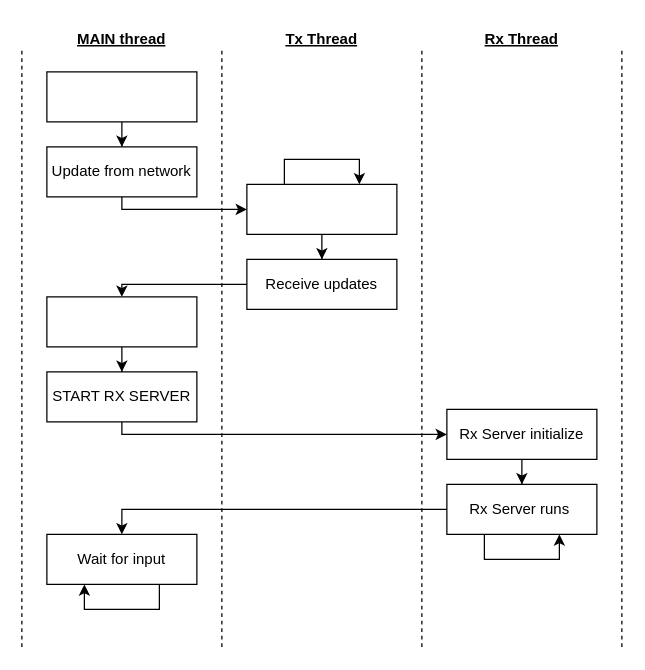
This 645x670 diagram has some shape labels left out. Here are the shapes that lost their labels. From the top down, the centre of each, then its label:
At pixel 121 96: "START".
At pixel 321 208: "Request updates".
At pixel 121 321: "Update local blockchain".
